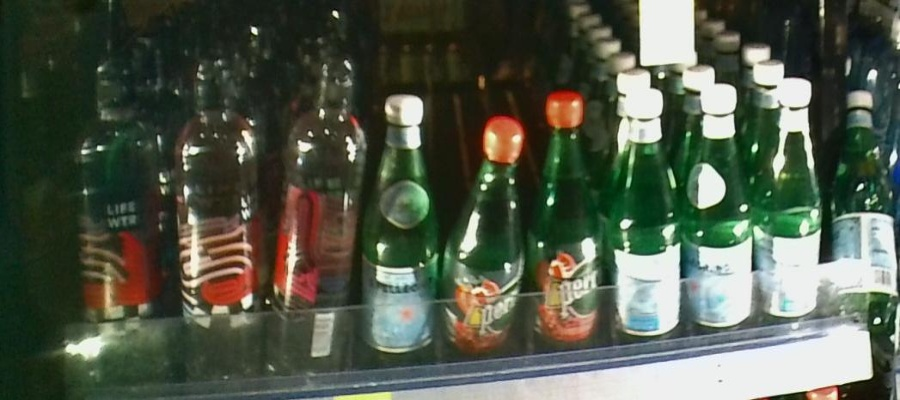bottle: (173, 64, 268, 387), (77, 60, 167, 387), (278, 58, 363, 387), (443, 112, 529, 364), (367, 88, 438, 385), (535, 82, 607, 367), (686, 82, 756, 346), (612, 77, 677, 351), (762, 77, 827, 351)
